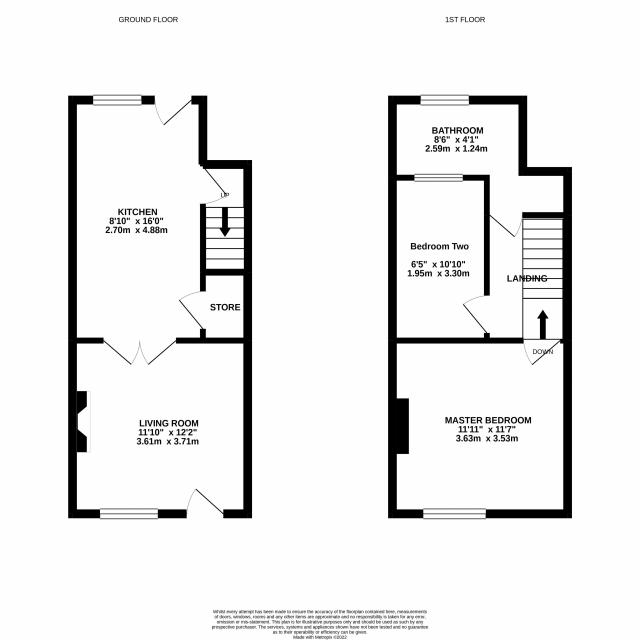DOOR: (198, 163, 229, 206), (154, 95, 193, 127), (186, 487, 225, 519), (461, 294, 491, 334), (522, 337, 561, 367), (178, 290, 207, 330), (484, 211, 523, 239)
ROOM: (68, 94, 229, 366), (68, 337, 253, 519), (388, 337, 572, 519), (387, 174, 490, 344)
WINDOW: (423, 508, 487, 520), (99, 508, 159, 520), (420, 94, 470, 106), (93, 94, 142, 106), (414, 173, 464, 182)
